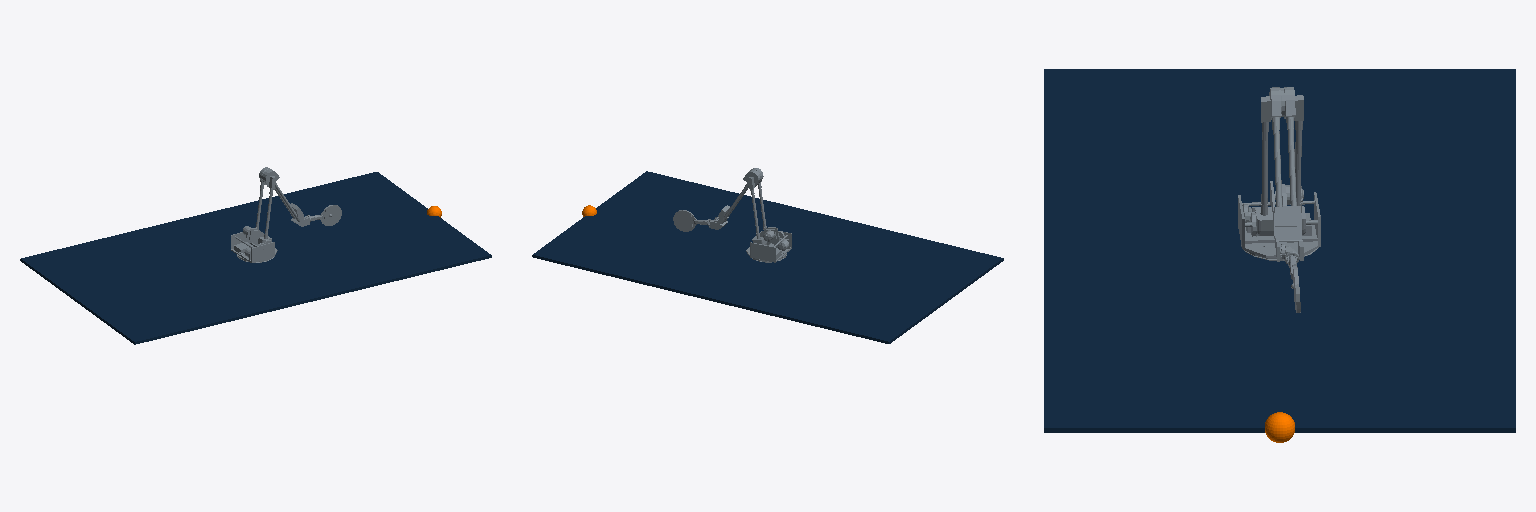
robot.urdf — mainarmass:
<robot name="mainarmass">
    <material name="black"><color rgba="0.529 0.568 0.6 1" /></material>
    <material name="orange"><color rgba="1.0 0.5 0.0 1.0" /></material>
    <material name="table_color"><color rgba="0.1 0.2 0.3 0.8" /></material>

    <link name="table_center">
        <visual>
            <origin xyz="0 0 0" rpy="0 0 0" />
            <geometry><sphere radius="0.05"/></geometry>
            <material name="orange" />
        </visual>
    </link>

    <link name="table_surface">
        <visual>
            <origin xyz="-1.37 0.0 -0.01" rpy="0.0 0.0 0.0" />
            <geometry><box size="2.74 1.52 0.02" /></geometry>
            <material name="table_color" />
        </visual>
        <collision>
            <origin xyz="-1.37 0.0 0.05" rpy="0 0 0" />
            <geometry><box size="2.74 1.52 0.02" /></geometry>
        </collision>
    </link>

    <joint name="center_to_table" type="fixed">
        <parent link="table_center" />
        <child link="table_surface" />
        <origin xyz="0 0 0" rpy="0 0 0" /> 
    </joint>

    <link name="root">
        <visual>
            <origin xyz="0 0 0" rpy="0 0 0" />
            <geometry><sphere radius="0.001"/></geometry>
            <material name="black" />
        </visual>
    </link>

    <joint name="center_to_robot" type="fixed">
        <parent link="table_center" />
        <child link="root" />
        <origin xyz="-1.37 0 0" rpy="0 0 0" /> 
    </joint>

    <joint name="root_to_base" type="fixed">
        <!-- Added 45 deg (0.7854 rad) to yaw to match physical diagonal desk mount -->
        <origin xyz="0 0 0" rpy="0 0 2.3736" />
        <parent link="root" />
        <child link="Base" />
    </joint>


    <link name="Base">
        <inertial>
            <mass value="0.219" />
            <origin xyz="0 0 0.005" rpy="0 0 0" />
            <inertia ixx="0.0009559" ixy="0" ixz="0" iyy="0.0009559" iyz="0" izz="0.00190814" />
        </inertial>
        <visual>
            <origin xyz="0 0 0" rpy="0 0 0" />
            <geometry><mesh filename="package://ttt_control/meshes/67.stl" scale="1 1 1" /></geometry>
            <material name="black" />
        </visual>
        <collision>
            <origin xyz="0 0 0" rpy="0 0 0" />
            <geometry><mesh filename="package://ttt_control/meshes/67.stl" scale="1 1 1" /></geometry>
        </collision>
    </link>

    <link name="Shoulder">
        <inertial>
            <mass value="3.232" />
            <origin xyz="0.0015 0.0238 0.0500" rpy="0 0 0" />
            <inertia ixx="0.01827653" ixy="0.00349413" ixz="-0.00033063" iyy="0.01968154" iyz="-0.00175414" izz="0.03042546" />
        </inertial>
        <visual>
            <origin xyz="0.0637 0.1917 0.0902" rpy="0 0 0" />
            <geometry><mesh filename="package://ttt_control/meshes/63.stl" scale="1 1 1" /></geometry>
            <material name="black" />
        </visual>
        <collision>
            <origin xyz="0.0637 0.1917 0.0902" rpy="0 0 0" />
            <geometry><mesh filename="package://ttt_control/meshes/63.stl" scale="1 1 1" /></geometry>
        </collision>
    </link>

    <link name="UpperArm">
        <inertial>
            <mass value="1.456" />
            <origin xyz="0.0016 0.0003 0.0734" rpy="0 0 0" />
            <inertia ixx="0.02606584" ixy="-0.00147774" ixz="0.00295468" iyy="0.02661382" iyz="0.00583087" izz="0.00673394" />
        </inertial>
        <visual>
            <origin xyz="-0.0453 0.1279 0.0401" rpy="0 0 0" />
            <geometry><mesh filename="package://ttt_control/meshes/75.stl" scale="1 1 1" /></geometry>
            <material name="black" />
        </visual>
        <collision>
            <origin xyz="-0.0453 0.1279 0.0401" rpy="0 0 0" />
            <geometry><mesh filename="package://ttt_control/meshes/75.stl" scale="1 1 1" /></geometry>
        </collision>
    </link>

    <link name="Forearm">
        <inertial>
            <mass value="0.757" />
            <origin xyz="-0.0255 -0.0694 -0.1516" rpy="0 0 0" />
            <inertia ixx="0.02490527" ixy="-0.00176138" ixz="-0.00375067" iyy="0.02114019" iyz="-0.00953407" izz="0.00606278" />
        </inertial>
        <visual>
            <origin xyz="0.0640 0.2460 -0.3971" rpy="0 0 0" />
            <geometry><mesh filename="package://ttt_control/meshes/79.stl" scale="1 1 1" /></geometry>
            <material name="black" />
        </visual>
        <collision>
            <origin xyz="0.0640 0.2460 -0.3971" rpy="0 0 0" />
            <geometry><mesh filename="package://ttt_control/meshes/79.stl" scale="1 1 1" /></geometry>
        </collision>
    </link>

    <link name="Wrist">
        <inertial>
            <mass value="0.086" />
            <origin xyz="-0.0285 0.0006 0.0133" rpy="0 0 0" />
            <inertia ixx="0.00004728" ixy="-0.00001086" ixz="0.00002008" iyy="0.00005686" iyz="0.00000813" izz="0.00003823" />
        </inertial>
        <visual>
            <origin xyz="0.1232 0.3795 0.0397" rpy="0 0 0" />
            <geometry><mesh filename="package://ttt_control/meshes/59.stl" scale="1 1 1" /></geometry>
            <material name="black" />
        </visual>
        <collision>
            <origin xyz="0.1232 0.3795 0.0397" rpy="0 0 0" />
            <geometry><mesh filename="package://ttt_control/meshes/59.stl" scale="1 1 1" /></geometry>
        </collision>
    </link>

    <link name="Paddle">
        <inertial>
            <mass value="0.355" />
            <origin xyz="-0.0346 -0.0910 0.1368" rpy="0 0 0" />
            <inertia ixx="0.00254292" ixy="-0.0003235" ixz="0.00032513" iyy="0.00177002" iyz="0.00082579" izz="0.00103777" />
        </inertial>
        <visual>
            <origin xyz="0.1494 0.3836 -0.0516" rpy="0 0 0" />
            <geometry><mesh filename="package://ttt_control/meshes/71.stl" scale="1 1 1" /></geometry>
            <material name="black" />
        </visual>
        <collision>
            <origin xyz="0.1494 0.3836 -0.0516" rpy="0 0 0" />
            <geometry><mesh filename="package://ttt_control/meshes/71.stl" scale="1 1 1" /></geometry>
        </collision>
    </link>

    <link name="paddle_tcp">
        <visual>
            <origin xyz="0.0 0.0 0.0" rpy="0 0 0" />
            <geometry><sphere radius="0.01"/></geometry>
            <material name="black" />
        </visual>
        <collision>
            <origin xyz="0.0 0.0 0.0" rpy="0 0 0" />
            <geometry><sphere radius="0.01"/></geometry>
        </collision>
    </link>

    <joint name="BaseRotate_0" type="revolute">
        <origin xyz="0 0 0" rpy="0.01712 0.04808 -0.38348" />
        <axis xyz="0.04806 -0.01710 0.99869" /> 
        <parent link="Base" />
        <child link="Shoulder" />
        <limit lower="-2.0944" upper="2.0944" effort="35.0" velocity="5" />
    </joint>

    <joint name="UpperArmRotate_0" type="revolute">
        <origin xyz="-0.01750 -0.03317 0.10511" rpy="-0.08249 -0.02327 0.02051" />
        <axis xyz="0.93476 -0.35525 0" />
        <parent link="Shoulder" />
        <child link="UpperArm" />
        <limit lower="-0.261799" upper="0.5236" effort="30.0" velocity="5" />
    </joint>

    <joint name="ForeArmRotate_0" type="revolute">
        <origin xyz="-0.03355 -0.08830 0.45530" rpy="-0.06873 0.02609 -0.00089" />
        <axis xyz="-0.93476 0.35525 0" /> 
        <parent link="UpperArm" />
        <child link="Forearm" />
        <limit lower="-0.436332" upper="1.0472" effort="12.0" velocity="5" />
    </joint>

    <joint name="WristRotate_0" type="revolute">
        <origin xyz="-0.10957 -0.19888 -0.43388" rpy="-2.48921 0.22754 2.49360" />
        <axis xyz="0.93476 -0.35525 0" />
        <parent link="Forearm" />
        <child link="Wrist" />
        <limit lower="-3.14159" upper="0" effort="0.75" velocity="5" />
    </joint>

    <joint name="PaddleRotate_0" type="revolute">
        <origin xyz="-0.04174 -0.00429 0.02647" rpy="0 0 0" />
        <axis xyz="0.20602 0.54209 -0.81467" />
        <parent link="Wrist" />
        <child link="Paddle" />
        <limit lower="-1.5708" upper="1.5708" effort="0.75" velocity="5" />
    </joint>
    
    <joint name="paddle_to_tcp" type="fixed">
        <parent link="Paddle" />
        <child link="paddle_tcp" />
        <origin xyz="-0.033 -0.105 0.149" rpy="-0.587 0.245 -1.933" />
    </joint>
</robot>

--- Render facts (derived) ---
The picture shows the robot from 3 angles, left to right: view 1: azimuth 30°, elevation 25°; view 2: azimuth 150°, elevation 25°; view 3: azimuth 270°, elevation 25°; orthographic projection.
Robot: mainarmass — 10 links, 9 joints (5 revolute, 4 fixed); root link table_center; default pose: all joints at 0.
Visible links, largest first — view 1: table_surface, Shoulder, UpperArm, Forearm; view 2: table_surface, Shoulder, UpperArm, Forearm; view 3: table_surface, Forearm, UpperArm, Shoulder, table_center.
Link boxes in pixels (<box>): table_surface: <box>20,172,491,344</box>; Shoulder: <box>231,232,277,262</box>; UpperArm: <box>243,176,275,244</box>; Forearm: <box>259,167,309,226</box>; table_surface: <box>532,171,1003,343</box>; Shoulder: <box>746,231,791,262</box>; UpperArm: <box>748,177,778,244</box>; Forearm: <box>709,168,763,229</box>; table_surface: <box>1044,69,1515,432</box>; Forearm: <box>1269,87,1303,261</box>; UpperArm: <box>1251,95,1305,236</box>; Shoulder: <box>1238,192,1320,260</box>; table_center: <box>1265,412,1294,442</box>.
Size in the robot's own frame: 2.79 by 1.52 by 0.6648 metres.
6 mesh visuals loaded from 6 distinct referenced files (6 ASCII STL).
